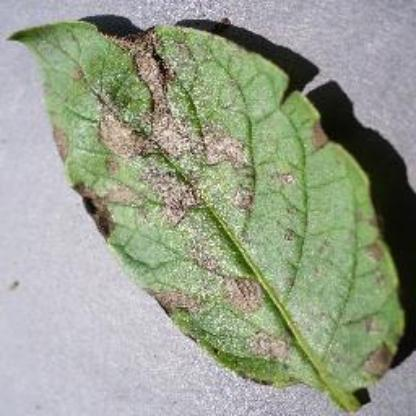Early-Blight: (6, 14, 410, 410)
